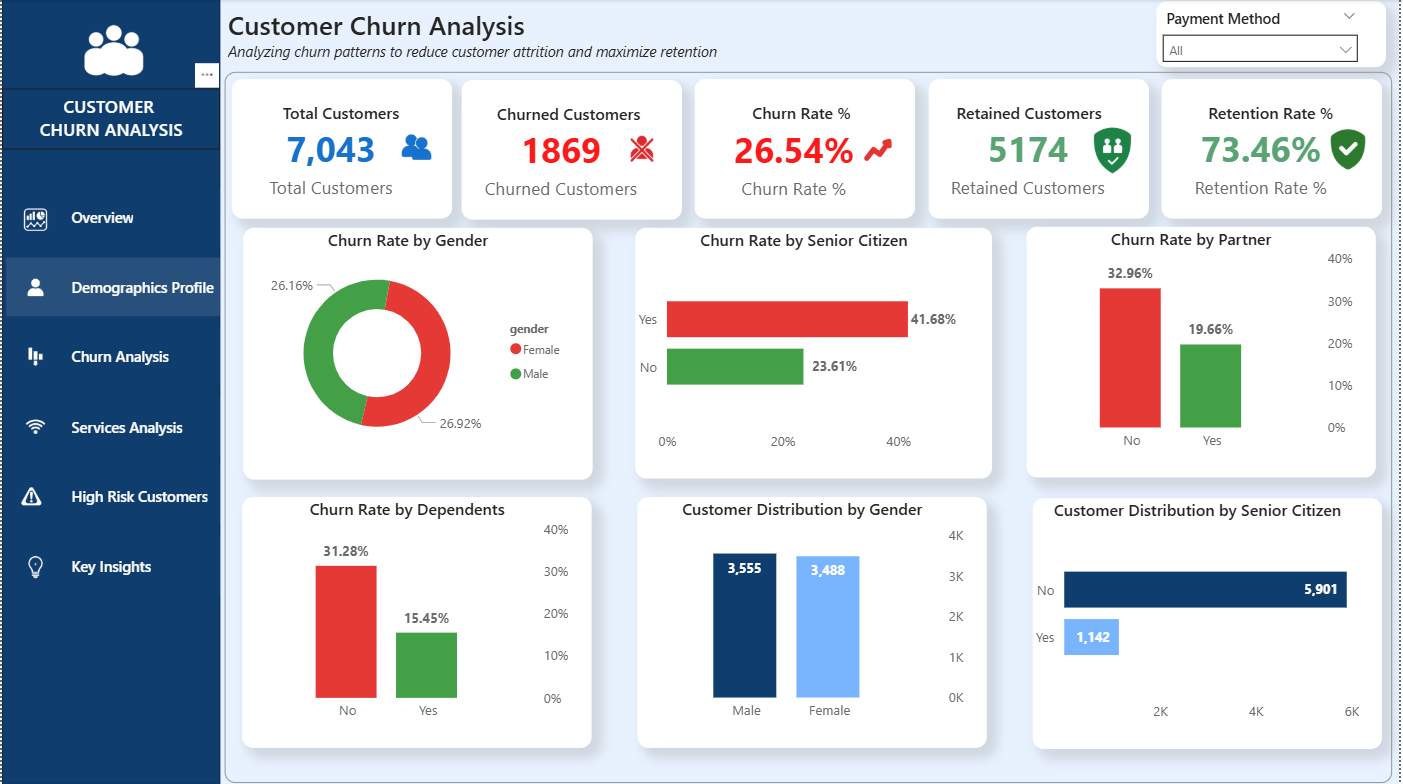

This screenshot's page, from the dashboard's own definition file:
{"tool":"powerbi","page":{"name":"Demographics Profile","canvas":[1280,720],"ordinal":1},"visuals":[{"type":"shape","title":"Menu BG","box":[0,0,200,720.3],"z":0},{"type":"pageNavigator","title":"Menu Buttons","box":[3.3,172.5,196,378.3],"z":1000},{"type":"image","box":[40.1,0,124.6,94.6],"z":2000},{"type":"image","box":[3.3,186.9,53.4,31.1],"z":3000},{"type":"image","box":[3.3,249.3,53.4,31.1],"z":4000},{"type":"image","box":[3.3,312.7,53.4,31.1],"z":5000},{"type":"image","box":[3.3,376.1,53.4,31.1],"z":6000},{"type":"image","box":[0,440.6,53.4,31.1],"z":7000},{"type":"image","box":[3.3,505.2,53.4,31.1],"z":8000},{"type":"textbox","box":[0,82.3,200.3,55.6],"z":9000},{"type":"textbox","box":[201.8,2.1,470.2,72.8],"z":10000},{"type":"shape","box":[204,66.7,1070.5,652],"z":11000},{"type":"slicer","fields":{"Values":["public customer_churn.payment_method"]},"box":[1058.1,1.9,210.7,61],"z":12000},{"type":"card","title":"    Total Customers","fields":{"Values":["public customer_churn.Total Customers"]},"box":[211,73.4,202,127.7],"z":13000},{"type":"image","box":[352.7,96.3,54.3,60],"z":14000},{"type":"card","title":"   Churned Customers","fields":{"Values":["public customer_churn.Churned Customers"]},"box":[421.3,74.4,202.1,127.7],"z":15000},{"type":"image","box":[559.5,98.2,54.3,59.1],"z":16000},{"type":"card","title":"   Churn Rate  %","fields":{"Values":["public customer_churn.Churn Rate"]},"box":[634.8,73.4,202.1,127.7],"z":17000},{"type":"image","box":[775.9,99.1,54.3,59.1],"z":18000},{"type":"card","title":"Retained Customers","fields":{"Values":["public customer_churn.Retained Customers"]},"box":[849.3,73.4,202.1,127.7],"z":19000},{"type":"image","box":[990.4,99.1,55.3,59.1],"z":20000},{"type":"card","title":"    Retention Rate %","fields":{"Values":["public customer_churn.Retention Rate %"]},"box":[1062.8,73.4,202.1,127.7],"z":21000},{"type":"image","box":[1206.8,98.2,54.3,60],"z":22000},{"type":"donutChart","title":"Churn Rate by Gender","fields":{"Y":["public customer_churn.Churn Rate %"],"Category":["public customer_churn.gender"]},"box":[221.1,209.7,320.3,230.7],"z":23000},{"type":"clusteredBarChart","title":"Churn Rate by Senior Citizen","fields":{"Y":["public customer_churn.Churn Rate %"],"Category":["public customer_churn.Senior Citizen Status"]},"box":[580.5,209.7,327,229.7],"z":24000},{"type":"columnChart","title":"Churn Rate by Partner","fields":{"Y":["public customer_churn.Churn Rate %"],"Category":["public customer_churn.Partner"]},"box":[938.9,208.8,320.3,230],"z":25000},{"type":"columnChart","title":"Churn Rate by Dependents","fields":{"Y":["public customer_churn.Churn Rate %"],"Category":["public customer_churn.Dependents"]},"box":[220,456.6,320.3,230],"z":26000},{"type":"columnChart","title":"Customer Distribution by Gender","fields":{"Category":["public customer_churn.gender"],"Y":["public customer_churn.Total Customers"]},"box":[582.4,456.6,320.3,229.7],"z":27000},{"type":"clusteredBarChart","title":"Customer Distribution by Senior Citizen","fields":{"Y":["public customer_churn.Total Customers"],"Category":["public customer_churn.Senior Citizen Status"]},"box":[944.6,457.5,320.3,229.7],"z":28000}]}

Visuals, with their boxes on the page's 1280x720 design canvas (x1, y1, x2, y2). These are canvas units, not pixel positions in the 1403x784 screenshot, which may show the page scaled, cropped or inside an application window:
"Menu BG" shape: x1=0 y1=0 x2=200 y2=720
"Menu Buttons" pageNavigator: x1=3 y1=172 x2=199 y2=551
image: x1=40 y1=0 x2=165 y2=95
image: x1=3 y1=187 x2=57 y2=218
image: x1=3 y1=249 x2=57 y2=280
image: x1=3 y1=313 x2=57 y2=344
image: x1=3 y1=376 x2=57 y2=407
image: x1=0 y1=441 x2=53 y2=472
image: x1=3 y1=505 x2=57 y2=536
textbox: x1=0 y1=82 x2=200 y2=138
textbox: x1=202 y1=2 x2=672 y2=75
shape: x1=204 y1=67 x2=1274 y2=719
slicer - public customer_churn.payment_method: x1=1058 y1=2 x2=1269 y2=63
"    Total Customers" card: x1=211 y1=73 x2=413 y2=201
image: x1=353 y1=96 x2=407 y2=156
"   Churned Customers" card: x1=421 y1=74 x2=623 y2=202
image: x1=560 y1=98 x2=614 y2=157
"   Churn Rate  %" card: x1=635 y1=73 x2=837 y2=201
image: x1=776 y1=99 x2=830 y2=158
"Retained Customers" card: x1=849 y1=73 x2=1051 y2=201
image: x1=990 y1=99 x2=1046 y2=158
"    Retention Rate %" card: x1=1063 y1=73 x2=1265 y2=201
image: x1=1207 y1=98 x2=1261 y2=158
"Churn Rate by Gender" donutChart: x1=221 y1=210 x2=541 y2=440
"Churn Rate by Senior Citizen" clusteredBarChart: x1=580 y1=210 x2=908 y2=439
"Churn Rate by Partner" columnChart: x1=939 y1=209 x2=1259 y2=439
"Churn Rate by Dependents" columnChart: x1=220 y1=457 x2=540 y2=687
"Customer Distribution by Gender" columnChart: x1=582 y1=457 x2=903 y2=686
"Customer Distribution by Senior Citizen" clusteredBarChart: x1=945 y1=458 x2=1265 y2=687
